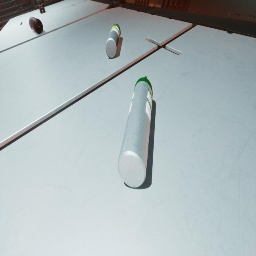0: (118, 76, 153, 187), (106, 24, 121, 59)
FirstAidBox ,: (38, 2, 45, 14)
NitrogenTank ,: (29, 17, 43, 34)
